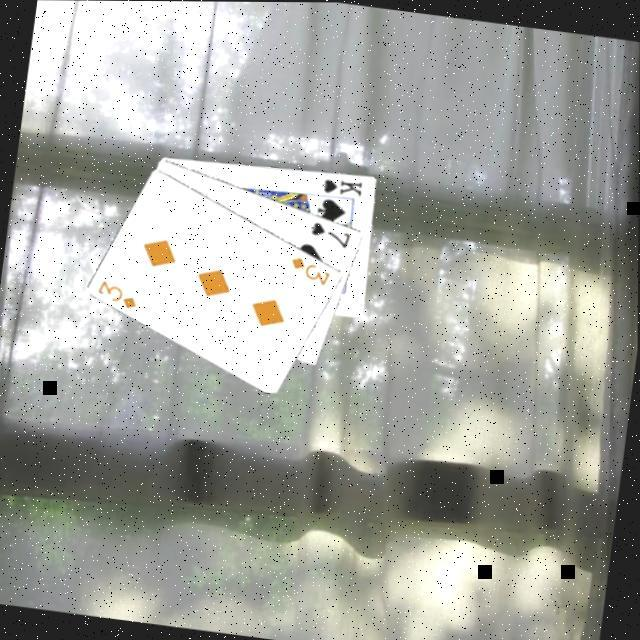3D: (283, 250, 334, 287), (92, 274, 142, 311)
7S: (305, 216, 354, 249)
KS: (317, 170, 366, 197)
